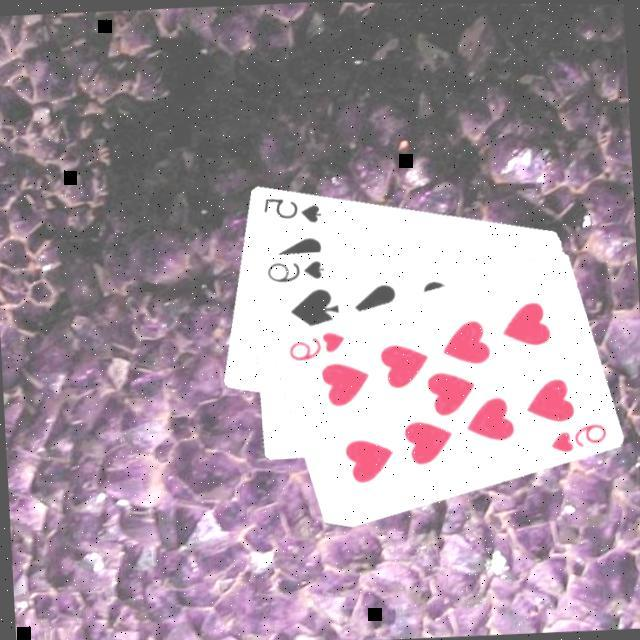5S: (258, 192, 324, 230)
9H: (282, 328, 348, 366), (545, 420, 610, 457)
9S: (262, 258, 327, 288)
